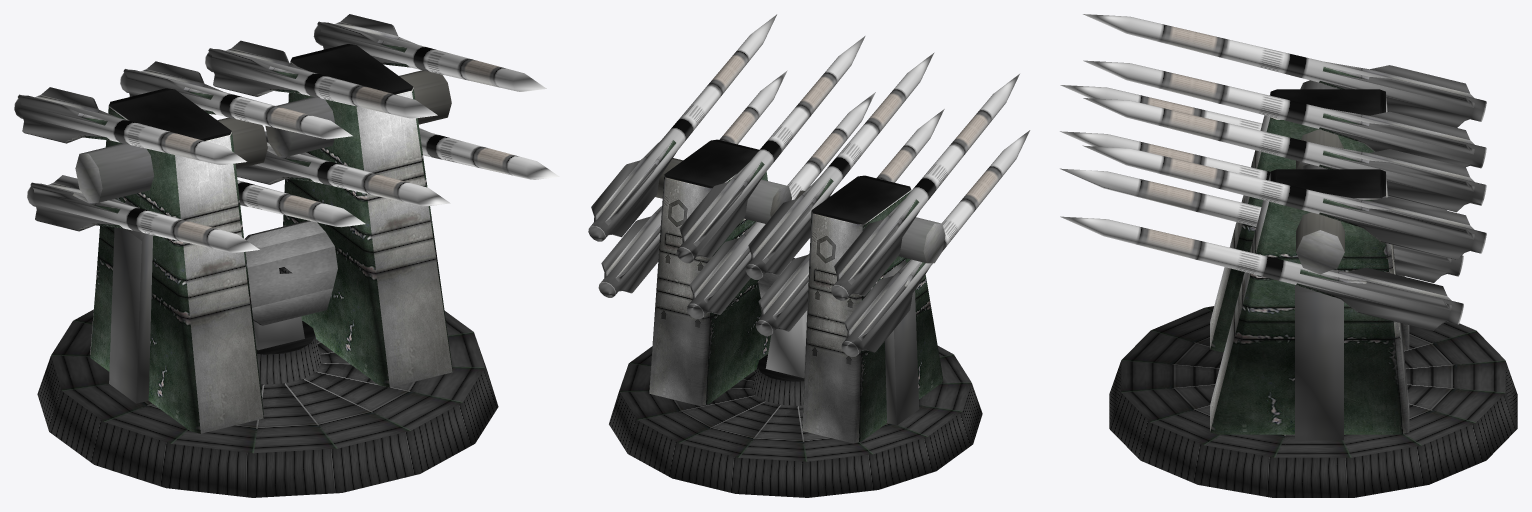
File: SamTurret.fbx
The picture shows the model from 3 angles, left to right: view 1: azimuth 30°, elevation 25°; view 2: azimuth 150°, elevation 25°; view 3: azimuth 270°, elevation 25°; orthographic projection. The views are drawn at different scales.
Visible parts, largest first — view 1: SamTurret; view 2: SamTurret; view 3: SamTurret.
Part boxes in pixels (<box>): SamTurret: <box>14,14,559,497</box>; SamTurret: <box>588,14,1030,497</box>; SamTurret: <box>1060,14,1517,497</box>.
Size of the model in its own units: 133 by 120 by 150.
